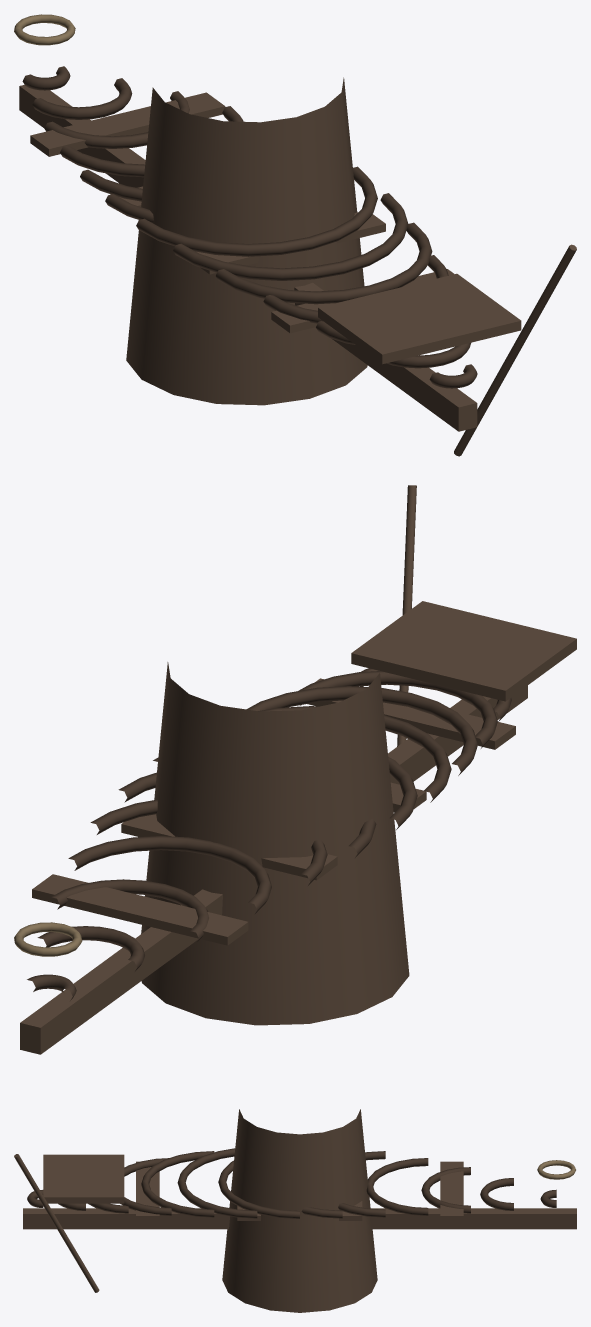
The model's file is ginosar-boat-4f628a4f.glb.
3 views of the same model, one above another, from view 1: azimuth 30°, elevation 25°; view 2: azimuth 150°, elevation 25°; view 3: azimuth 270°, elevation 25° (orthographic). The views are drawn at different scales.
Visible parts, largest first — view 1: ginosar-fishing-boat; view 2: ginosar-fishing-boat; view 3: ginosar-fishing-boat.
Boxes of the visible parts, x1,y1,x2,y2 form: ginosar-fishing-boat: [14, 14, 576, 456]; ginosar-fishing-boat: [14, 485, 576, 1054]; ginosar-fishing-boat: [14, 1109, 576, 1312].
Size of the model in its own units: 2.42 by 2.8 by 8.33.
